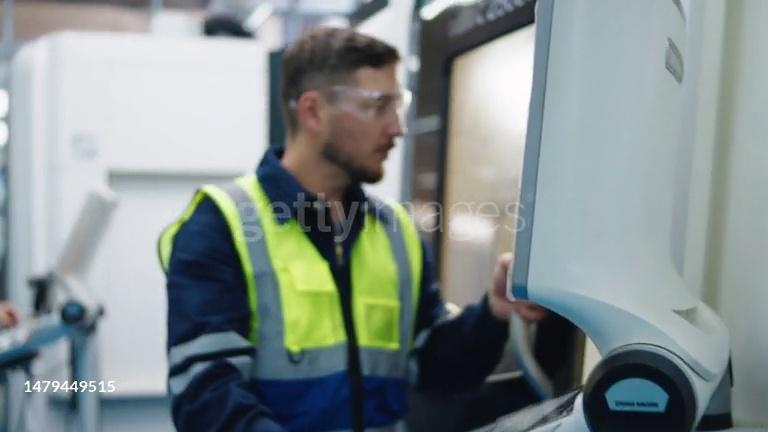person: (154, 25, 550, 432)
